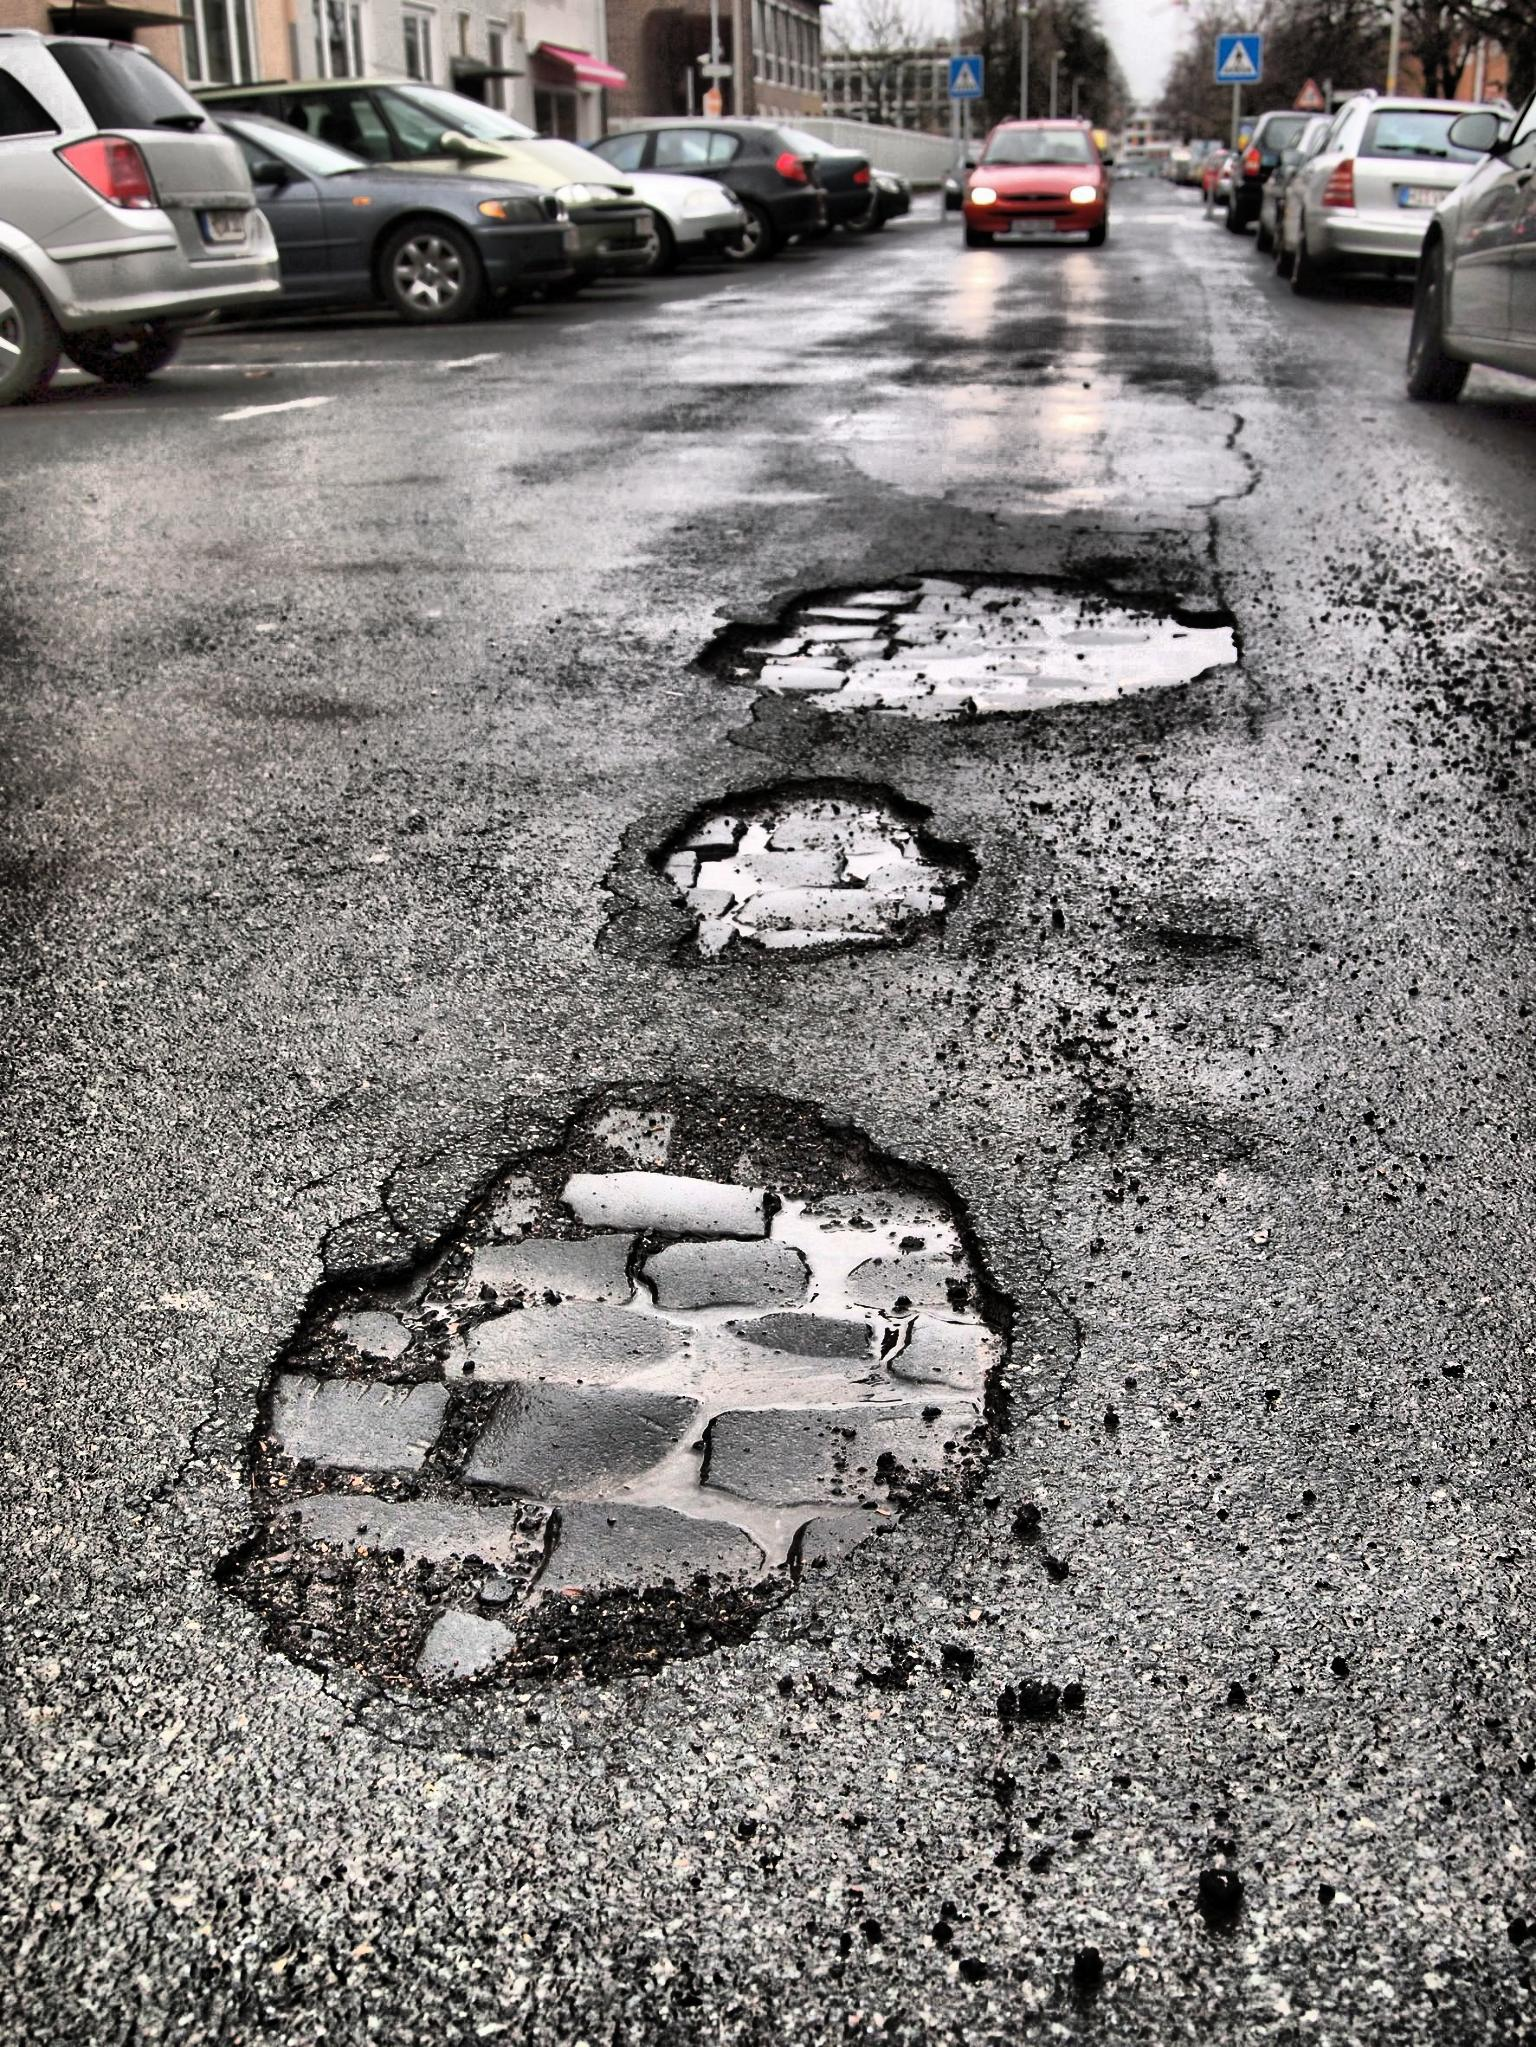pothole: (224, 1063, 1021, 1705), (716, 548, 1268, 736), (657, 745, 963, 981)
